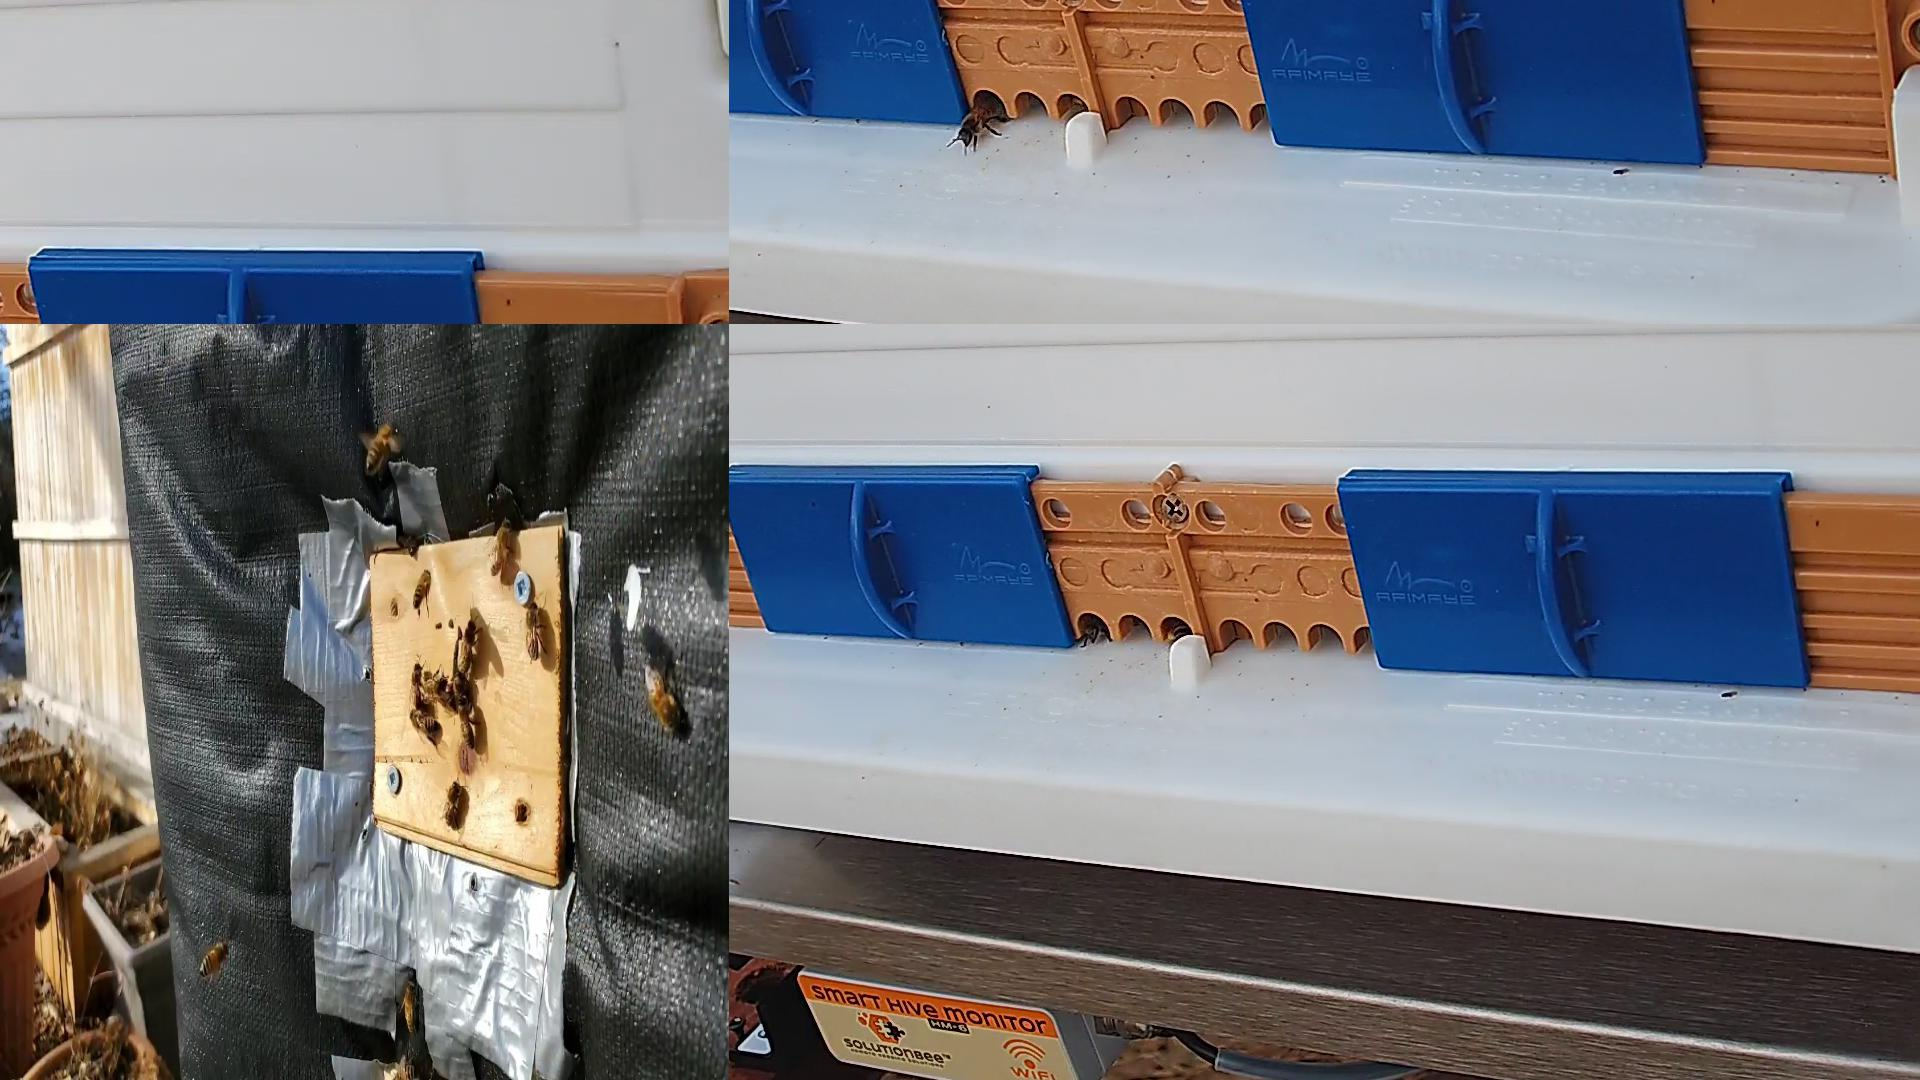bee: (955, 100, 1001, 145), (649, 669, 678, 727), (368, 426, 393, 471), (491, 521, 510, 574), (1079, 612, 1116, 640), (200, 943, 227, 976), (459, 696, 475, 748), (526, 603, 538, 662), (414, 568, 431, 609), (411, 711, 440, 735), (462, 621, 475, 671), (446, 781, 459, 825), (404, 984, 415, 1033), (411, 663, 422, 708), (423, 676, 448, 695), (454, 671, 465, 705), (394, 1063, 417, 1079)
pollenbee: (1168, 611, 1189, 642)
